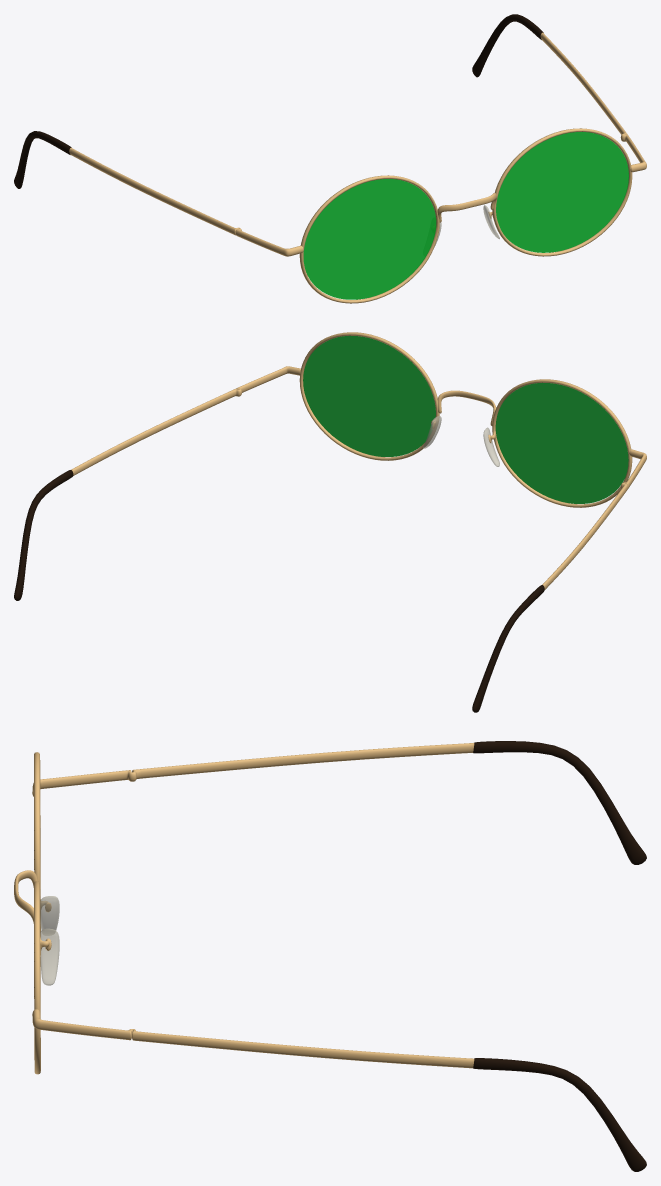
File: glasses2.glb
3 views of the same model, one above another, from view 1: azimuth 30°, elevation 25°; view 2: azimuth 150°, elevation 25°; view 3: azimuth 270°, elevation 25° (orthographic). The views are drawn at different scales.
Visible parts, largest first — view 1: Cylinder.005_GreenGlasses_0, Cube.005_Gold_0, Cylinder.004_Gold_0, Cube.005_BrownPlastic_0; view 2: Cylinder.005_GreenGlasses_0, Cube.005_Gold_0, Cylinder.004_Gold_0, Cube.005_BrownPlastic_0, Cylinder.006_WhitePlastic_0; view 3: Cube.005_Gold_0, Cube.005_BrownPlastic_0, Cylinder.004_Gold_0, Cylinder.006_WhitePlastic_0.
Part boxes in pixels (x1,y1,x2,y2): Cylinder.005_GreenGlasses_0: (303, 132, 628, 299); Cube.005_Gold_0: (69, 32, 646, 256); Cylinder.004_Gold_0: (299, 128, 632, 303); Cube.005_BrownPlastic_0: (14, 14, 543, 188); Cylinder.005_GreenGlasses_0: (303, 335, 628, 503); Cube.005_Gold_0: (71, 366, 646, 589); Cylinder.004_Gold_0: (299, 332, 632, 507); Cube.005_BrownPlastic_0: (14, 470, 544, 712); Cylinder.006_WhitePlastic_0: (423, 416, 499, 466); Cube.005_Gold_0: (14, 743, 474, 1068); Cube.005_BrownPlastic_0: (473, 741, 646, 1171); Cylinder.004_Gold_0: (34, 752, 51, 1074); Cylinder.006_WhitePlastic_0: (40, 896, 59, 985).
Size of the model in its own units: 1.48 by 0.4056 by 1.23.
